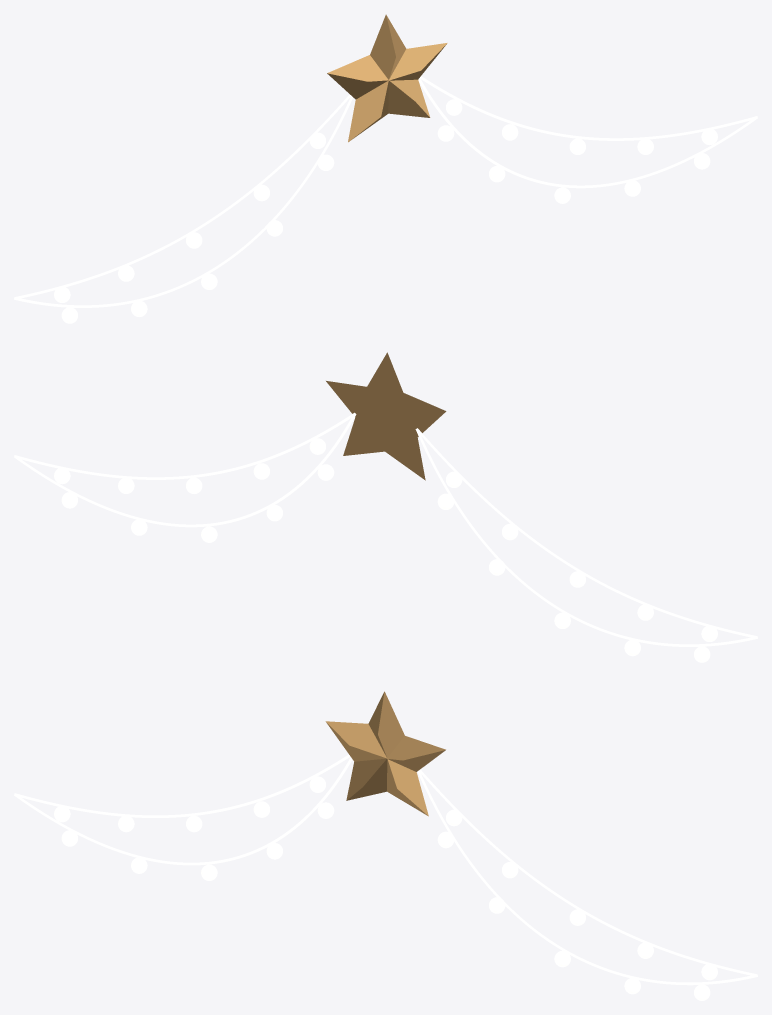
File: church star light.fbx
3 renders of one model, top to bottom at view 1: azimuth 30°, elevation 25°; view 2: azimuth 150°, elevation 25°; view 3: azimuth 330°, elevation 25°, orthographic.
Visible parts, largest first — view 1: Plane, Sphere.001, Sphere.002; view 2: Plane, Sphere.001, Sphere.002; view 3: Plane, Sphere.002, Sphere.001.
Boxes of the visible parts, x1=… form: Plane: x1=327, y1=14, x2=447, y2=142; Sphere.001: x1=14, y1=94, x2=352, y2=323; Sphere.002: x1=418, y1=76, x2=757, y2=203; Plane: x1=326, y1=352, x2=446, y2=480; Sphere.001: x1=415, y1=428, x2=757, y2=662; Sphere.002: x1=14, y1=412, x2=356, y2=542; Plane: x1=325, y1=691, x2=445, y2=816; Sphere.002: x1=417, y1=769, x2=757, y2=1000; Sphere.001: x1=14, y1=754, x2=352, y2=880.
Bounding box in the file's own units: 824 × 257 × 25.47.
